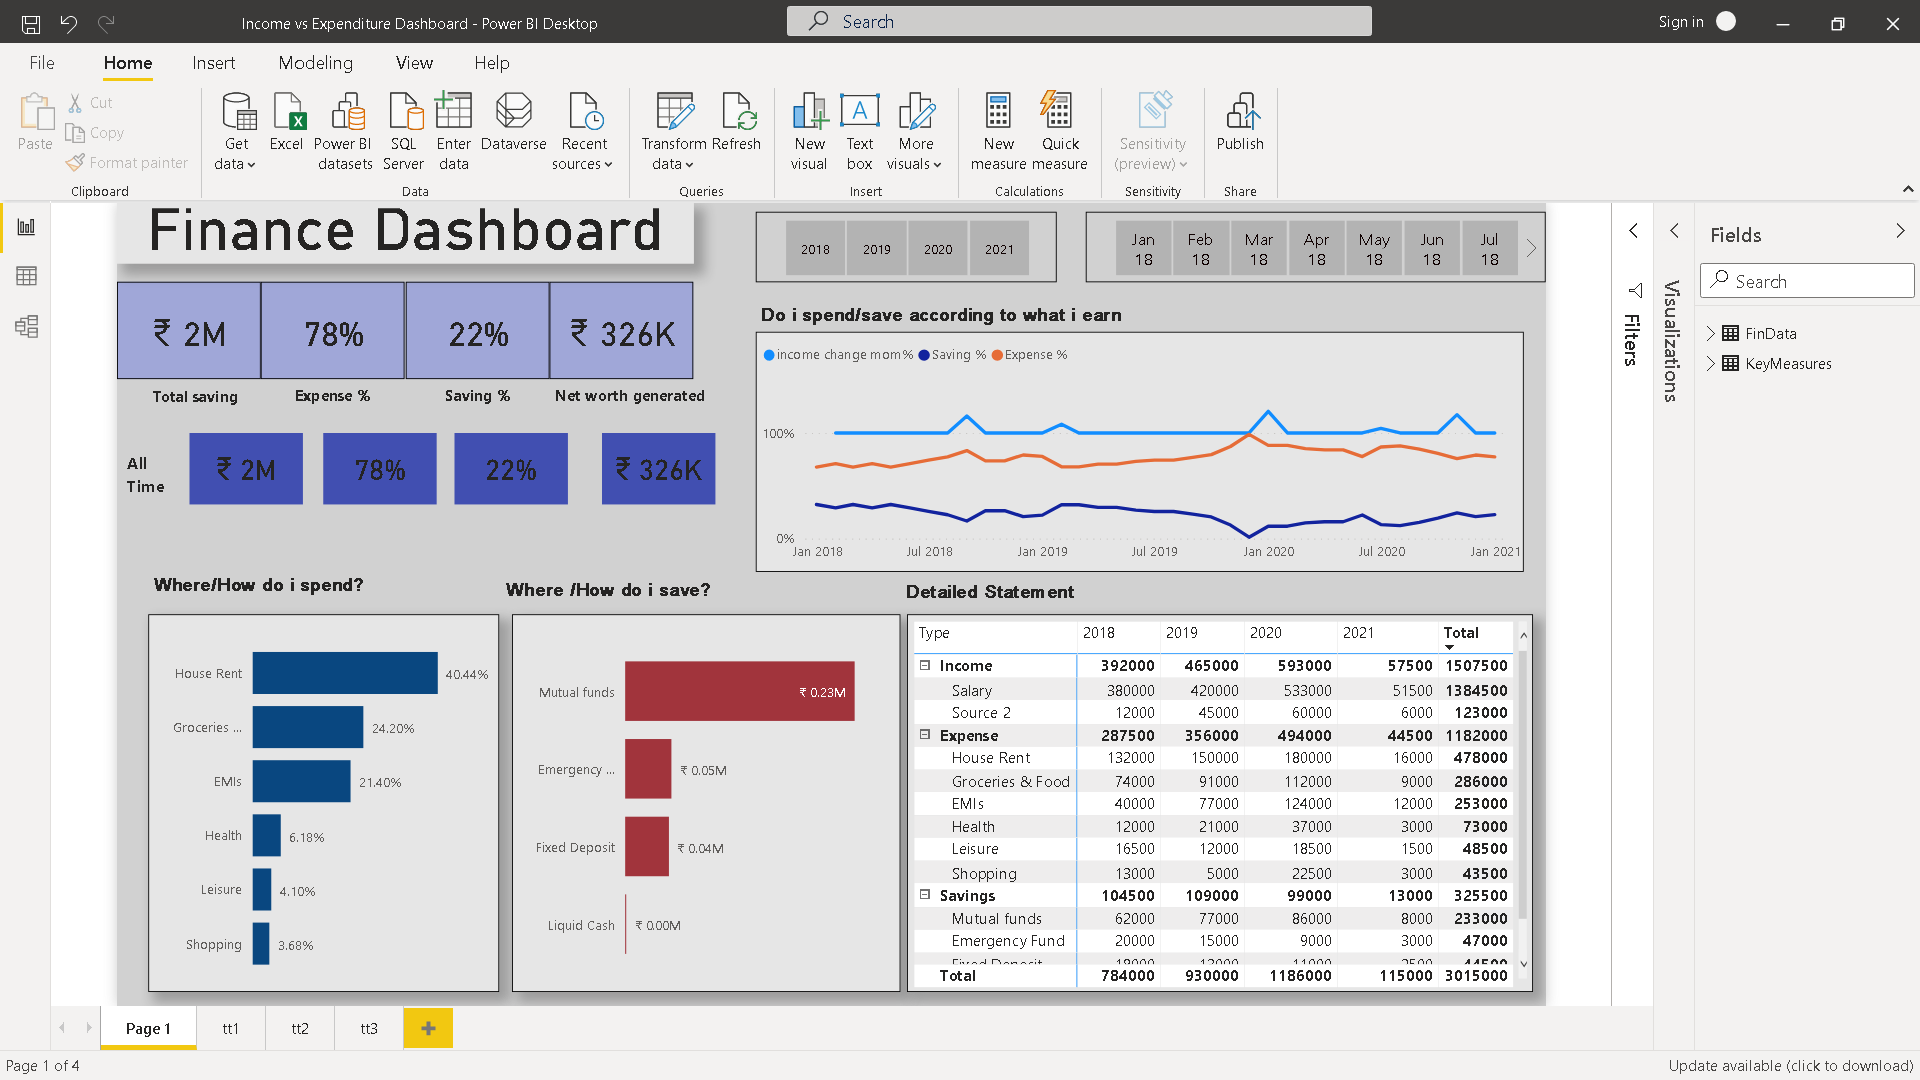

The dashboard page shown, as its layout file describes it:
{"tool":"powerbi","page":{"name":"Page 1","canvas":[1280,720],"ordinal":0},"visuals":[{"type":"slicer","box":[0,71.4,147,109.9],"z":1000},{"type":"card","fields":{"Values":["KeyMeasures.Total income"]},"box":[0,71,129.2,87.3],"z":2000},{"type":"card","fields":{"Values":["KeyMeasures.Expense %"]},"box":[129.2,71,129.2,87.3],"z":3000},{"type":"card","fields":{"Values":["KeyMeasures.Saving %"]},"box":[258.3,71,129.2,87.3],"z":4000},{"type":"card","fields":{"Values":["KeyMeasures.Total saving"]},"box":[387.5,71,129.2,87.3],"z":5000},{"type":"textbox","box":[0,158.3,129.2,47.7],"z":6000},{"type":"textbox","box":[129.2,158.3,129.2,47.7],"z":7000},{"type":"textbox","box":[258.3,158.3,129.2,47.7],"z":8000},{"type":"textbox","box":[377,158.3,157.1,47.7],"z":9000},{"type":"slicer","fields":{"Values":["FinData.Year"]},"box":[572.5,8.1,270,62.8],"z":10000},{"type":"slicer","fields":{"Values":["FinData.Dates"]},"box":[868.1,8.1,411.9,62.8],"z":11000},{"type":"clusteredBarChart","fields":{"Category":["FinData.Component"],"Y":["KeyMeasures.Total Expense"]},"box":[27.9,368.9,314.2,338.6],"z":12000},{"type":"clusteredBarChart","fields":{"Y":["KeyMeasures.Total saving"],"Category":["FinData.Component"]},"box":[353.7,368.9,347.9,338.6],"z":13000},{"type":"textbox","box":[27.9,325.8,315.3,33.7],"z":14000},{"type":"textbox","box":[343.3,330.5,347.9,33.7],"z":15000},{"type":"card","fields":{"Values":["KeyMeasures.Title"]},"box":[0,0,516.7,54.7],"z":16000},{"type":"lineChart","fields":{"Y":["KeyMeasures.income change mom%","KeyMeasures.Saving %","KeyMeasures.Expense %"],"Category":["FinData.Dates"]},"box":[572.5,115.2,687.7,215.3],"z":17000},{"type":"pivotTable","fields":{"Rows":["FinData.Type","FinData.Component"],"Columns":["FinData.Year"],"Values":["Sum(FinData.Value)"]},"box":[707.5,368.9,560.9,338.6],"z":18000},{"type":"textbox","box":[701.7,332.8,558.5,31.4],"z":19000},{"type":"textbox","box":[572.5,83.8,687.7,31.4],"z":20000},{"type":"card","fields":{"Values":["KeyMeasures.Total income"]},"box":[65.2,206,101.2,64],"z":21000},{"type":"card","fields":{"Values":["KeyMeasures.Saving %"]},"box":[302.5,206,101.2,64],"z":22000},{"type":"card","fields":{"Values":["KeyMeasures.Expense %"]},"box":[185,206,101.2,64],"z":23000},{"type":"card","fields":{"Values":["KeyMeasures.Total saving"]},"box":[434,206,101.2,64],"z":24000},{"type":"textbox","box":[0,199,57,78],"z":25000}]}

Visuals, with their boxes on the page's 1280x720 design canvas (x1, y1, x2, y2). These are canvas units, not pixel positions in the 1920x1080 screenshot, which may show the page scaled, cropped or inside an application window:
slicer: bbox=(0, 71, 147, 181)
card - KeyMeasures.Total income: bbox=(0, 71, 129, 158)
card - KeyMeasures.Expense %: bbox=(129, 71, 258, 158)
card - KeyMeasures.Saving %: bbox=(258, 71, 388, 158)
card - KeyMeasures.Total saving: bbox=(388, 71, 517, 158)
textbox: bbox=(0, 158, 129, 206)
textbox: bbox=(129, 158, 258, 206)
textbox: bbox=(258, 158, 388, 206)
textbox: bbox=(377, 158, 534, 206)
slicer - FinData.Year: bbox=(572, 8, 842, 71)
slicer - FinData.Dates: bbox=(868, 8, 1280, 71)
clusteredBarChart - FinData.Component x KeyMeasures.Total Expense: bbox=(28, 369, 342, 708)
clusteredBarChart - KeyMeasures.Total saving x FinData.Component: bbox=(354, 369, 702, 708)
textbox: bbox=(28, 326, 343, 360)
textbox: bbox=(343, 330, 691, 364)
card - KeyMeasures.Title: bbox=(0, 0, 517, 55)
lineChart - KeyMeasures.income change mom% x KeyMeasures.Saving %: bbox=(572, 115, 1260, 330)
pivotTable - FinData.Type x FinData.Component: bbox=(708, 369, 1268, 708)
textbox: bbox=(702, 333, 1260, 364)
textbox: bbox=(572, 84, 1260, 115)
card - KeyMeasures.Total income: bbox=(65, 206, 166, 270)
card - KeyMeasures.Saving %: bbox=(302, 206, 404, 270)
card - KeyMeasures.Expense %: bbox=(185, 206, 286, 270)
card - KeyMeasures.Total saving: bbox=(434, 206, 535, 270)
textbox: bbox=(0, 199, 57, 277)
